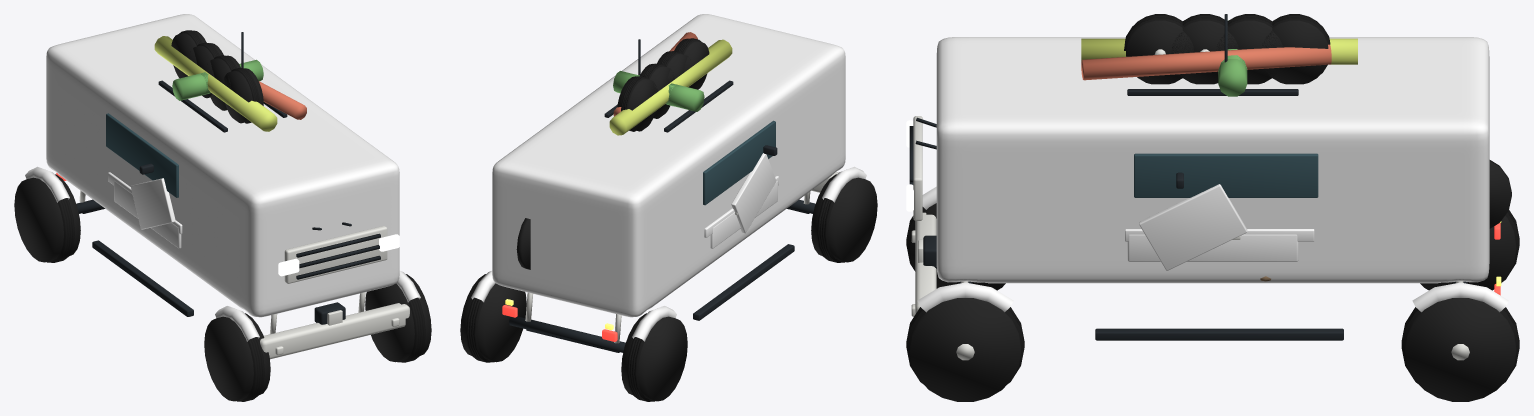
File: van.glb
The picture shows the model from 3 angles, left to right: view 1: azimuth 30°, elevation 25°; view 2: azimuth 150°, elevation 25°; view 3: azimuth 270°, elevation 25°; orthographic projection. The views are drawn at different scales.
Visible parts, largest first — view 1: Body, LOD_Body, Wheel2_tire, Wheel0_tire, Det_bumper, Wheel1_tire, Det_grille, Glass_sideL, Acc_kayak, Accent_chevron.001, Det_slider, Acc_spare_tire (+14 smaller); view 2: Body, LOD_Body, Wheel2_tire, Wheel0_tire, Wheel3_tire, Glass_sideL, Acc_kayak, Accent_chevron.001, Det_axler, Det_slider, Acc_spare3_tire, Accent_thick.001 (+9 smaller); view 3: Body, LOD_Body, Wheel1_tire, Wheel3_tire, Glass_sideR, Accent_chevron, Acc_kayakb, Det_slider.001, Accent_thick, Acc_spare_tire, Acc_spare3_tire, Acc_spare1_tire (+14 smaller).
Boxes of the visible parts, x1,y1,x2,y2 form: Body: [46, 14, 399, 316]; LOD_Body: [46, 14, 399, 317]; Wheel2_tire: [14, 174, 80, 262]; Wheel0_tire: [204, 313, 270, 401]; Det_bumper: [260, 303, 409, 359]; Wheel1_tire: [365, 274, 431, 362]; Det_grille: [284, 226, 387, 283]; Glass_sideL: [106, 113, 178, 197]; Acc_kayak: [154, 36, 277, 131]; Accent_chevron.001: [130, 178, 175, 229]; Det_slider: [92, 240, 193, 316]; Acc_spare_tire: [224, 68, 263, 123]; Body: [492, 14, 845, 317]; LOD_Body: [492, 14, 845, 316]; Wheel2_tire: [621, 313, 687, 401]; Wheel0_tire: [811, 174, 877, 262]; Wheel3_tire: [460, 274, 526, 362]; Glass_sideL: [703, 120, 775, 205]; Acc_kayak: [609, 39, 732, 135]; Accent_chevron.001: [731, 153, 776, 233]; Det_axler: [509, 316, 625, 352]; Det_slider: [693, 244, 794, 320]; Acc_spare3_tire: [617, 76, 657, 131]; Accent_thick.001: [710, 181, 777, 248]; Body: [936, 37, 1489, 283]; LOD_Body: [936, 37, 1489, 283]; Wheel1_tire: [910, 298, 1020, 401]; Wheel3_tire: [1405, 298, 1516, 401]; Glass_sideR: [1134, 153, 1318, 197]; Accent_chevron: [1139, 184, 1247, 270]; Acc_kayakb: [1081, 44, 1331, 80]; Det_slider.001: [1095, 328, 1343, 340]; Accent_thick: [1127, 234, 1298, 261]; Acc_spare_tire: [1126, 14, 1194, 84]; Acc_spare3_tire: [1262, 14, 1328, 84]; Acc_spare1_tire: [1172, 14, 1238, 84].
Size of the model in its own units: 2.17 by 2.91 by 4.66.
